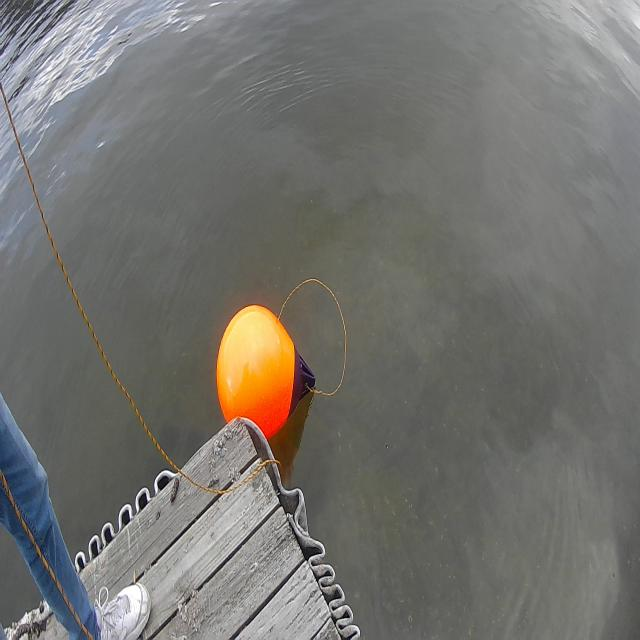Buoy: (207, 280, 320, 450)
